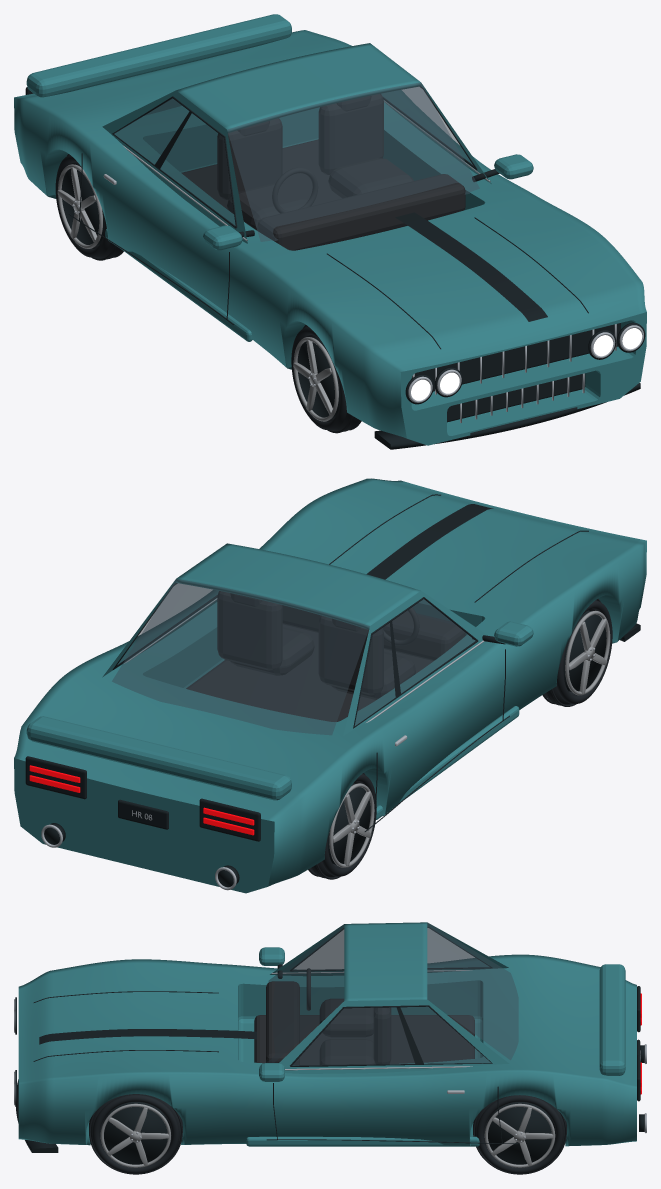
File: muscle.glb
3 renders of one model, top to bottom at view 1: azimuth 30°, elevation 25°; view 2: azimuth 150°, elevation 25°; view 3: azimuth 270°, elevation 25°, orthographic. The views are drawn at different scales.
Visible parts, largest first — view 1: Body surfaces, WheelFrontR surfaces, WheelRearR surfaces; view 2: Body surfaces, WheelFrontR surfaces, WheelRearR surfaces; view 3: Body surfaces, WheelFrontL surfaces, WheelRearL surfaces.
Part boxes in pixels (bbox=[...]): Body surfaces: bbox=[14, 14, 646, 449]; WheelFrontR surfaces: bbox=[291, 325, 361, 433]; WheelRearR surfaces: bbox=[55, 154, 123, 260]; Body surfaces: bbox=[14, 478, 646, 893]; WheelFrontR surfaces: bbox=[542, 598, 612, 706]; WheelRearR surfaces: bbox=[308, 773, 376, 879]; Body surfaces: bbox=[14, 922, 646, 1152]; WheelFrontL surfaces: bbox=[89, 1094, 182, 1174]; WheelRearL surfaces: bbox=[473, 1095, 566, 1174].
Bounding box in the file's own units: 2.21 × 1.35 × 4.65.
